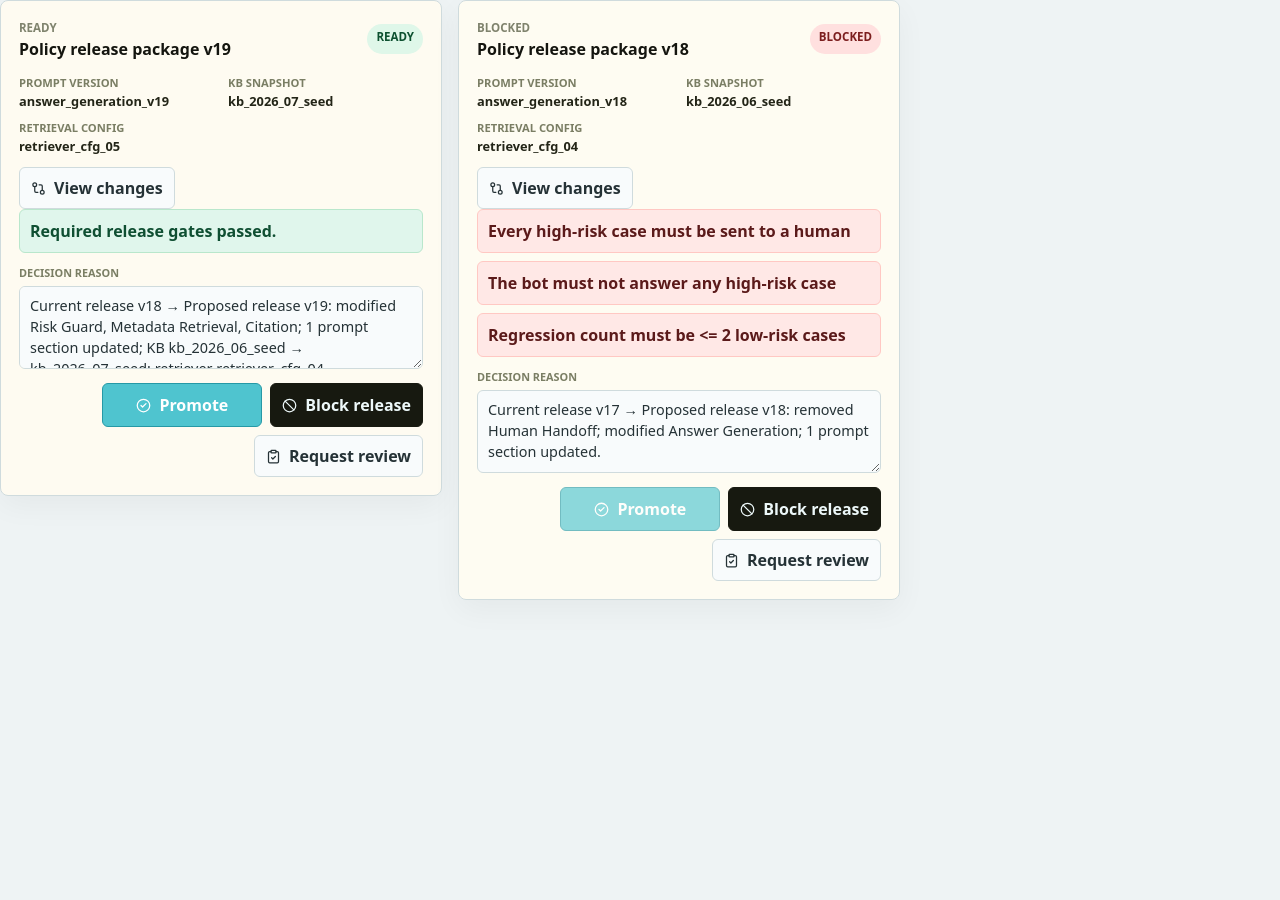
ReleaseCenter flow version diff › marks topology nodes with their change type
Click the button with aria-label "View changes for Policy release package v19" at (97, 188), box [19, 168, 175, 210]
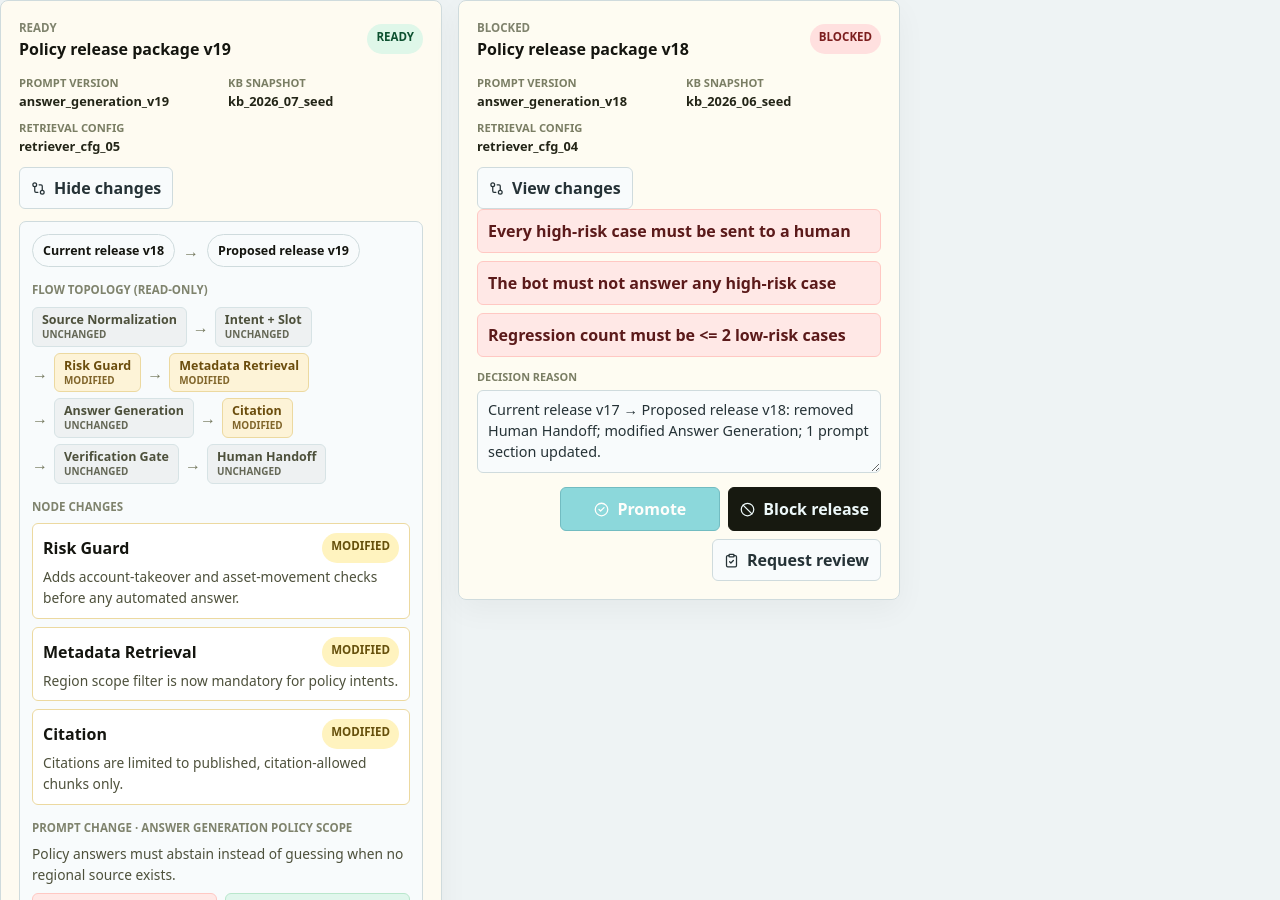
Result: the number of elements with test id "flow-node-modified" is 3 at [54, 353, 141, 392]; [169, 353, 309, 392]; [222, 398, 293, 438]
Result: the elements with test id "flow-node-modified" read "Risk Guardmodified", "Metadata Retrievalmodified", "Citationmodified", in this order at [54, 353, 141, 392]; [169, 353, 309, 392]; [222, 398, 293, 438]
Result: the number of elements with test id "flow-node-unchanged" is 5 at [32, 307, 187, 347]; [215, 307, 312, 347]; [54, 398, 194, 438]; [54, 444, 179, 484]; [207, 444, 326, 484]
